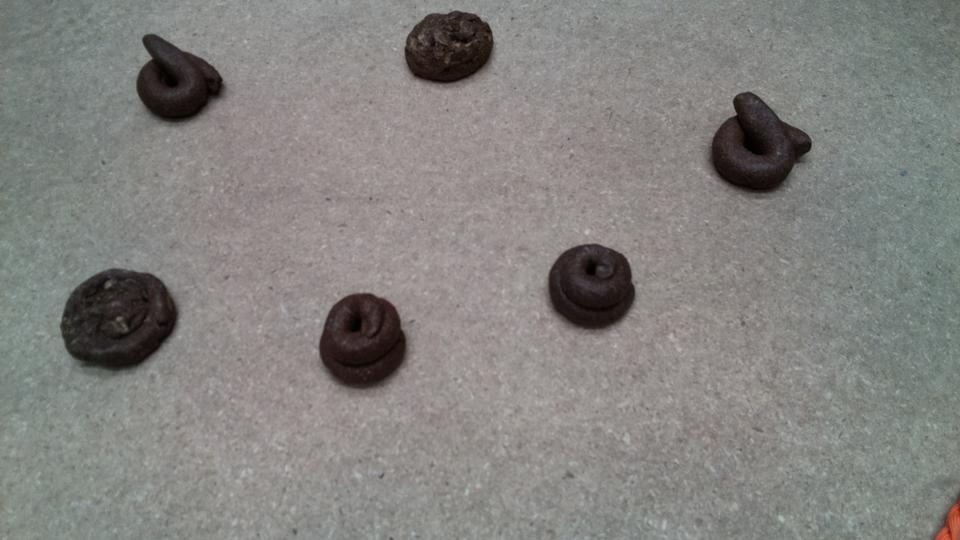poop: (56, 265, 181, 375), (708, 89, 814, 194), (317, 288, 410, 391), (133, 31, 226, 125), (545, 240, 637, 333), (402, 7, 496, 87)
rope: (935, 501, 960, 538)
